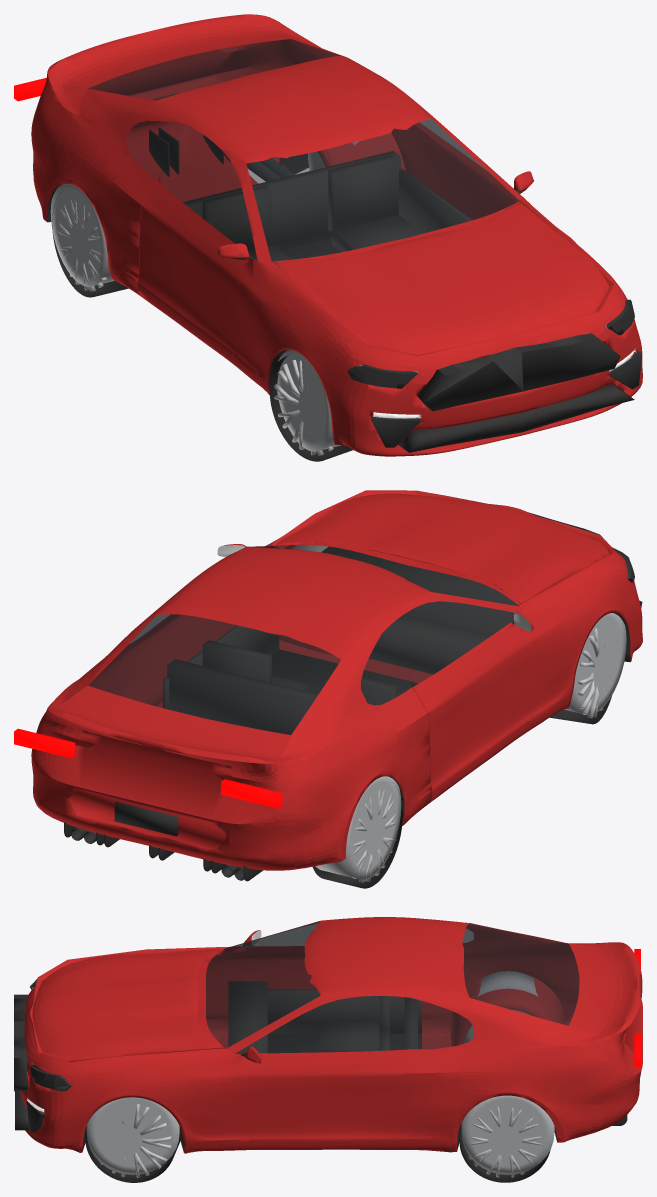
Rendered from car_gt.glb.
3 renders of one model, top to bottom at view 1: azimuth 30°, elevation 25°; view 2: azimuth 150°, elevation 25°; view 3: azimuth 270°, elevation 25°, orthographic. The views are drawn at different scales.
Parts seen in each view (by area): view 1: body, hood, bumper_F, interior, door_R, wheel_FR, wheel_RR, door_L, bumper_R, mirror_R; view 2: body, interior, hood, door_R, bumper_R, wheel_RR, wheel_FR, door_L, mirror_R, light_RR, light_RL; view 3: body, door_L, hood, interior, wheel_RL, wheel_FL, door_R, bumper_F, mirror_L, bumper_R, wheel_RR, mirror_R.
Boxes of the visible parts, x1,y1,x2,y2 form: body: (31,14,641,451); hood: (279,210,625,370); bumper_F: (354,321,642,456); interior: (183,151,471,290); door_R: (137,152,265,357); wheel_FR: (269,350,352,461); wheel_RR: (50,183,128,297); door_L: (416,120,533,219); bumper_R: (31,67,268,175); mirror_R: (222,243,287,316); body: (31,490,642,880); interior: (163,546,517,734); hood: (279,493,625,602); door_R: (397,599,533,796); bumper_R: (32,764,305,881); wheel_RR: (312,776,402,888); wheel_FR: (550,613,626,724); door_L: (137,545,262,707); mirror_R: (512,597,570,650); light_RR: (221,779,282,808); light_RL: (14,728,75,758); body: (14,917,642,1153); door_L: (235,1019,421,1144); hood: (39,949,224,1074); interior: (228,981,421,1053); wheel_RL: (459,1095,554,1182); wheel_FL: (85,1097,180,1182); door_R: (238,932,316,989); bumper_F: (14,1058,55,1148); mirror_L: (176,1046,259,1083); bumper_R: (602,1070,641,1128); wheel_RR: (464,971,538,1043); mirror_R: (210,930,259,963).
Size of the model in its own units: 2.29 by 1.48 by 4.79.
